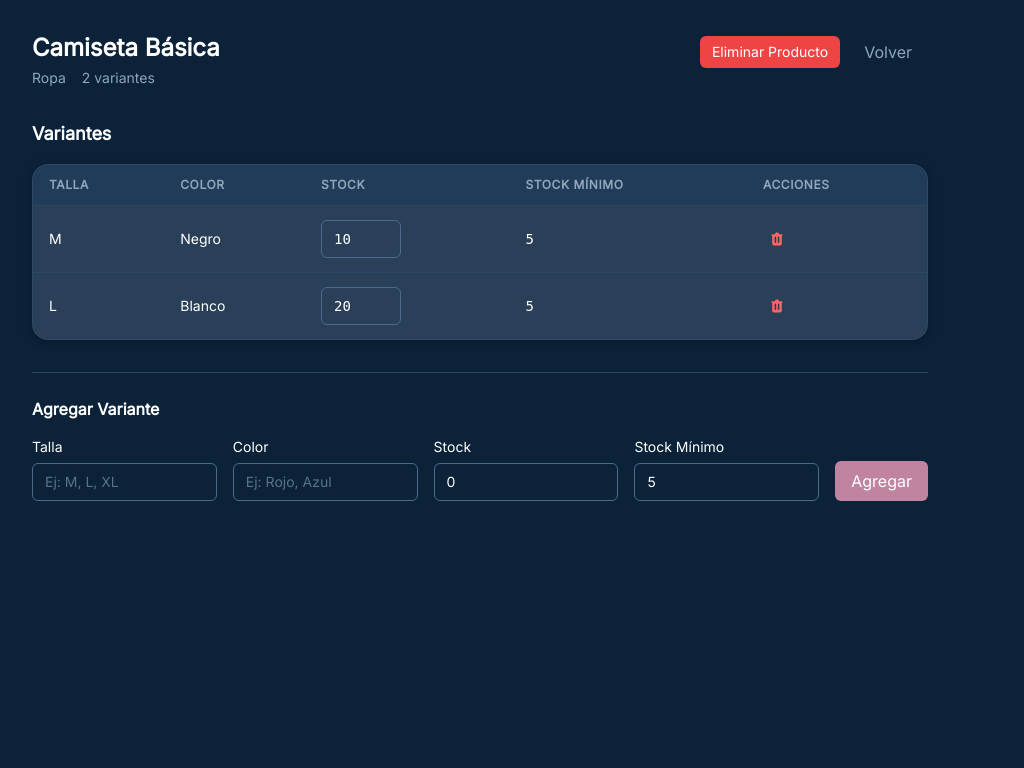
Test: InventoryDetailPage - Deletion UI › error message displayed when deletion is blocked (Req 3.1, 4.1, 5.1)
The width and height of the screenshot is (1024, 768).
Click the button "Eliminar Producto" at (770, 52), box [700,36,840,68]
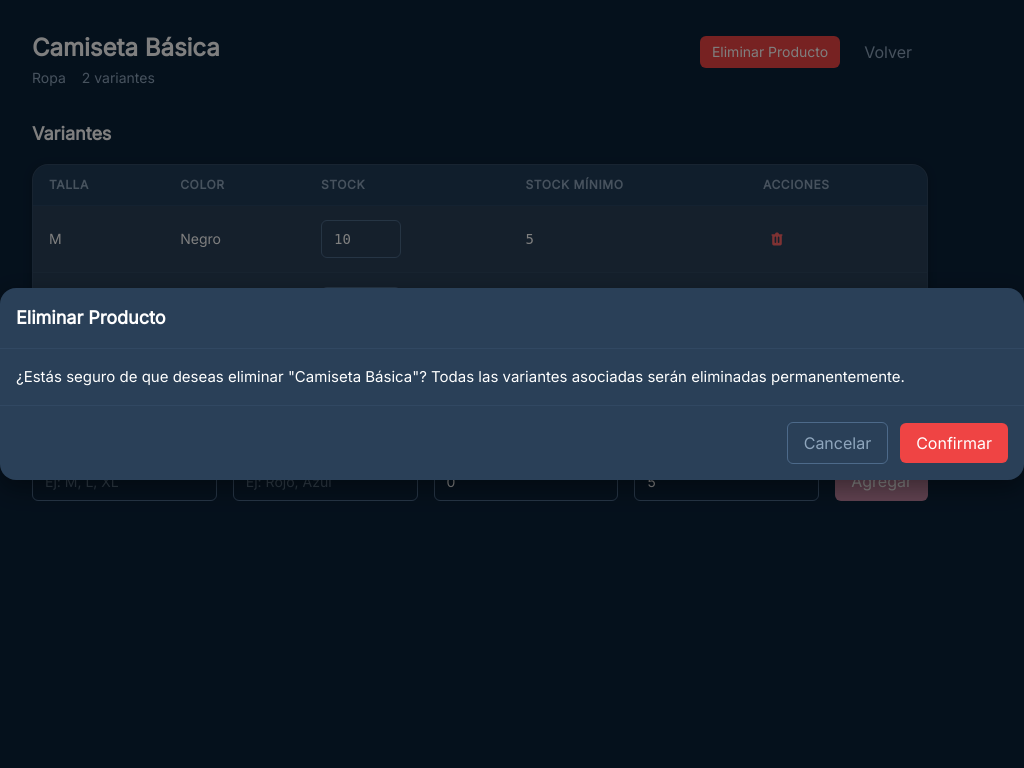
# Click confirm in the dialog
Click the button "Confirmar" at (954, 443), box [900,423,1008,463]
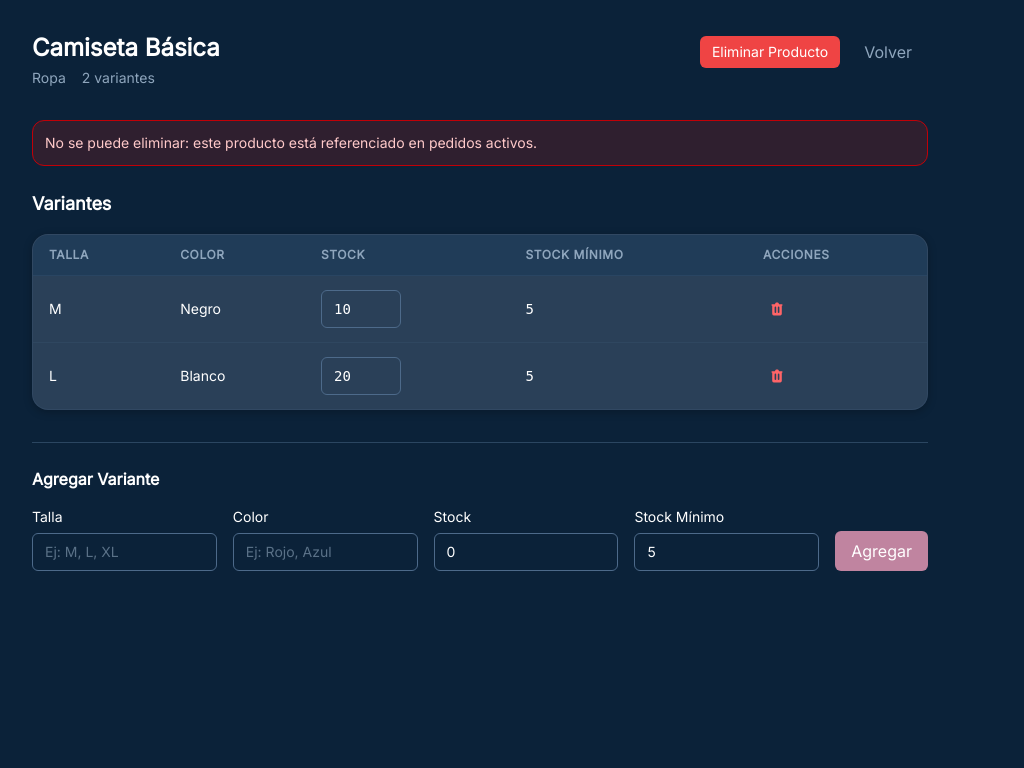
Expected: the text "No se puede eliminar: este producto está referenciado en pedidos activos." is shown, [32,120,928,166]
